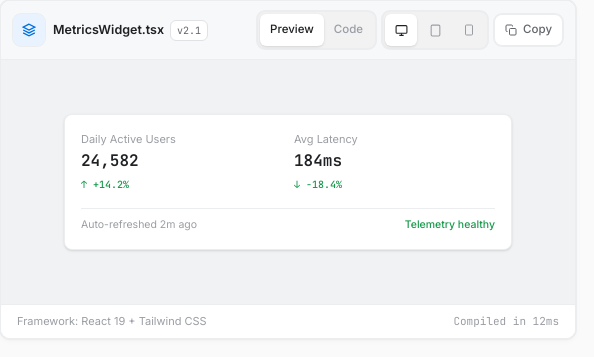
Scenario: clipboard components › reports a rejected copy without showing success
The width and height of the screenshot is (594, 357).
Step 1. Click the button "Copy" → (529, 30), box left=494, top=14, right=563, bottom=46
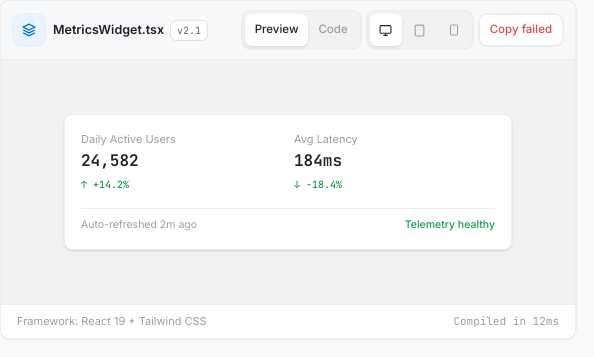
Expected: the text "Copy failed" is shown, left=490, top=21, right=552, bottom=39
